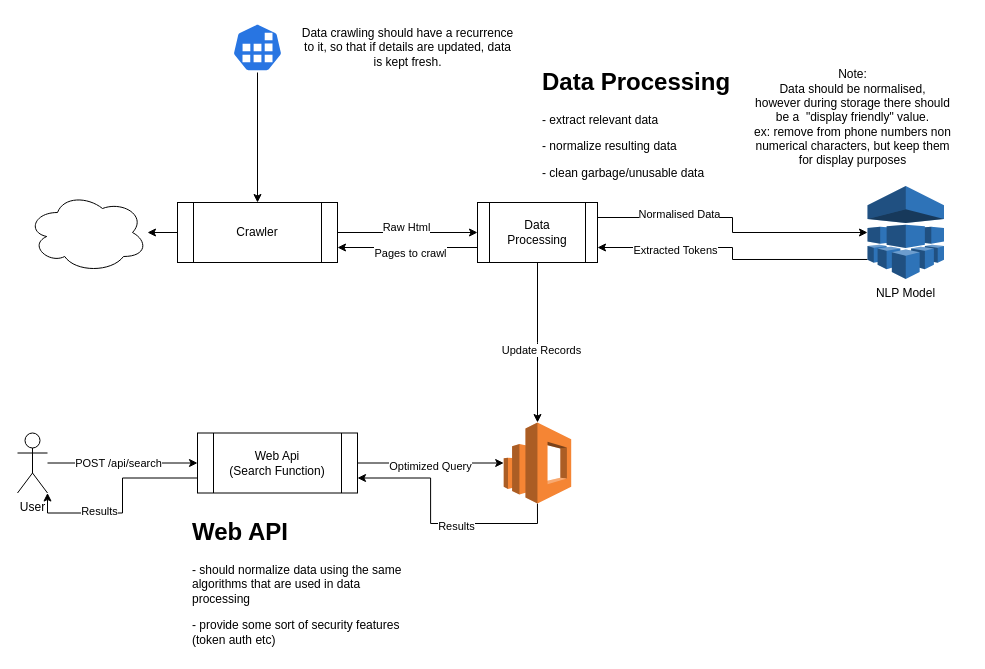
The diagram is 985 pixels wide and 669 high, and some of its shapes have lost their labels. The shapes that lost their labels are listed below. From the top down, each one's centre as x and y in pixels, then its label:
At (257,47): "Job Scheduler".
At (87,232): "Website Targets".
At (537,463): "ElasticSearch Service".
